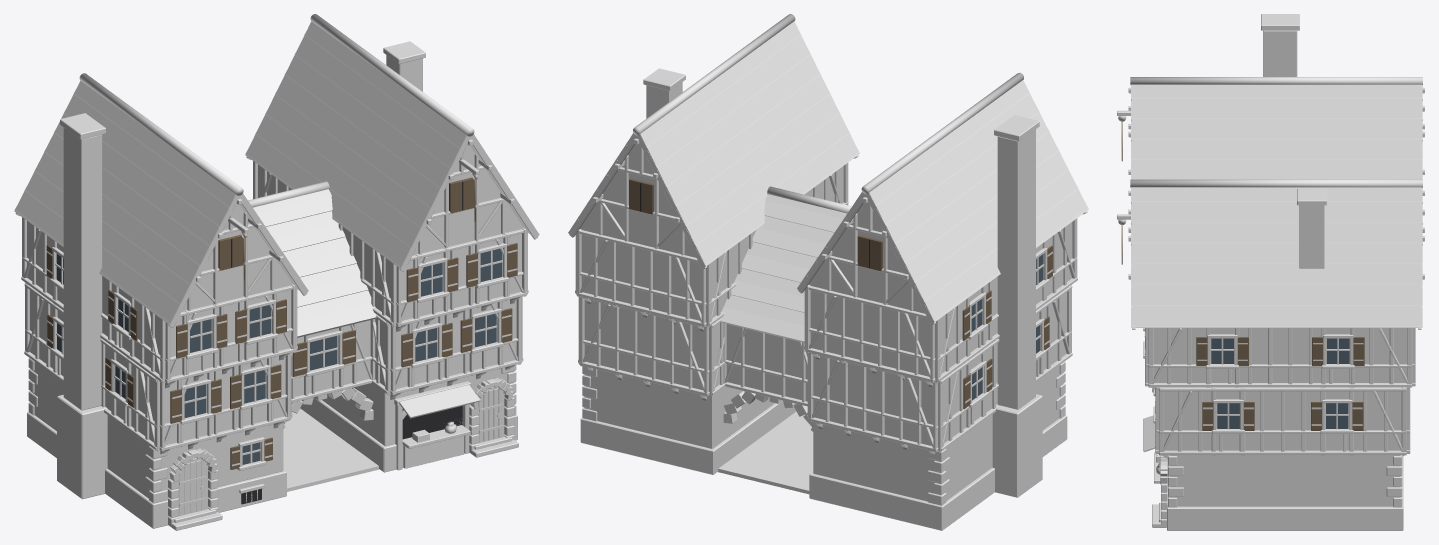
File: ville_13_collees_passage_voute.fbx
The picture shows the model from 3 angles, left to right: view 1: azimuth 30°, elevation 25°; view 2: azimuth 150°, elevation 25°; view 3: azimuth 270°, elevation 25°; orthographic projection. The views are drawn at different scales.
Parts seen in each view (by area): view 1: ville_13_collees_passage_voute_LOD0; view 2: ville_13_collees_passage_voute_LOD0; view 3: ville_13_collees_passage_voute_LOD0.
Part boxes in pixels (bbox=[...]): ville_13_collees_passage_voute_LOD0: bbox=[14, 14, 539, 530]; ville_13_collees_passage_voute_LOD0: bbox=[568, 14, 1088, 530]; ville_13_collees_passage_voute_LOD0: bbox=[1117, 14, 1424, 530].
Size of what is drawn, in the model's own units: 13.9 by 12.35 by 10.12.
